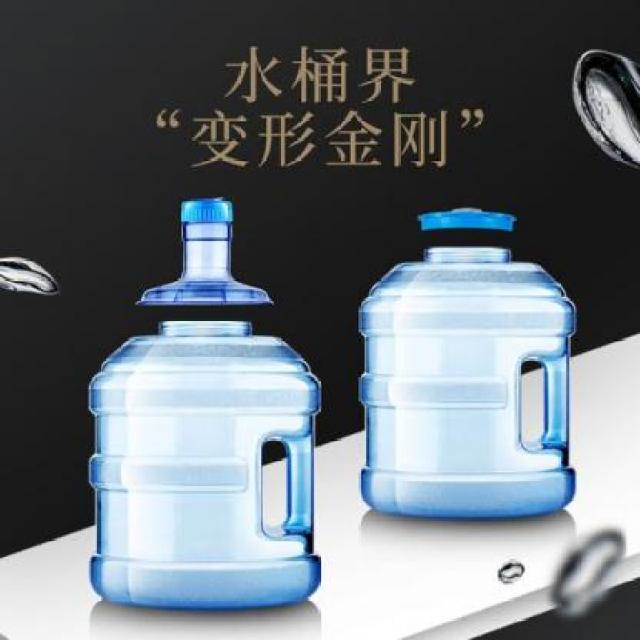coolerbottle: (83, 192, 326, 613), (353, 198, 584, 530)
